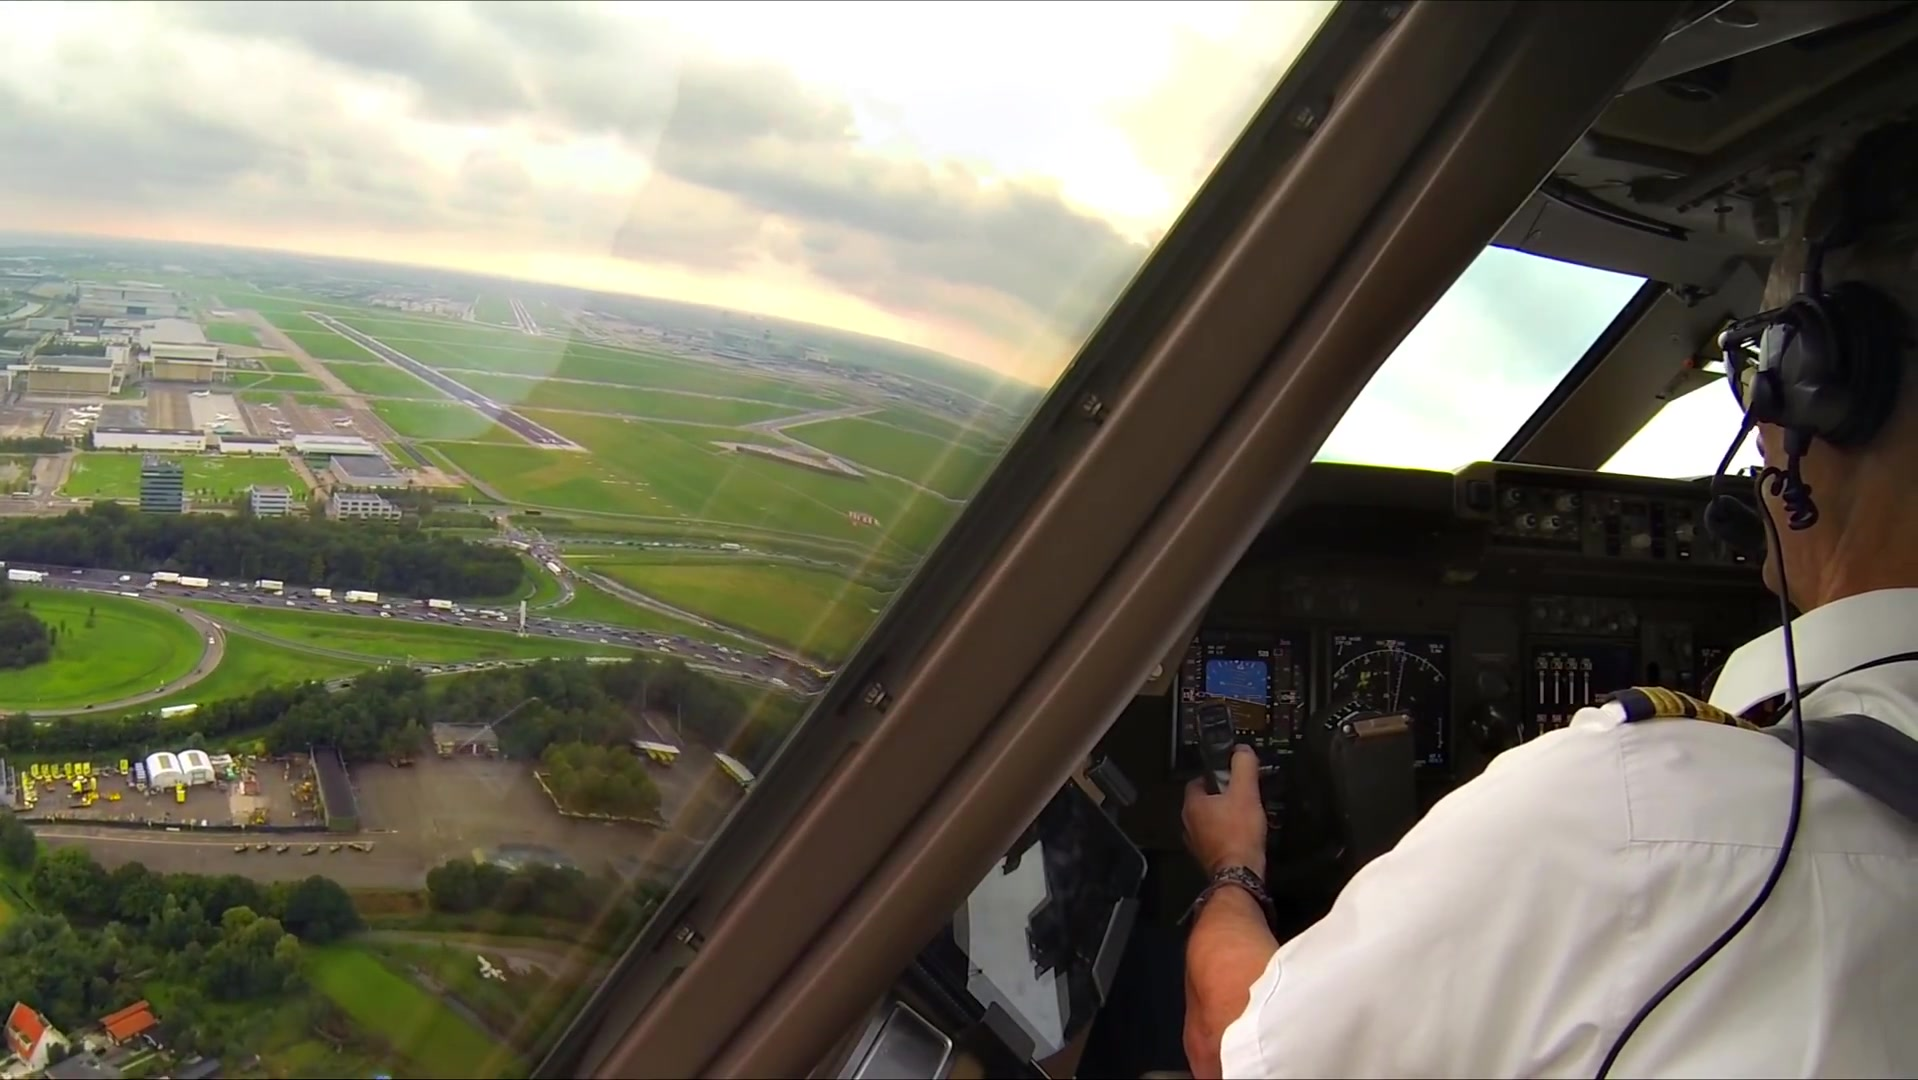runway: (300, 302, 591, 453), (501, 290, 539, 342)
